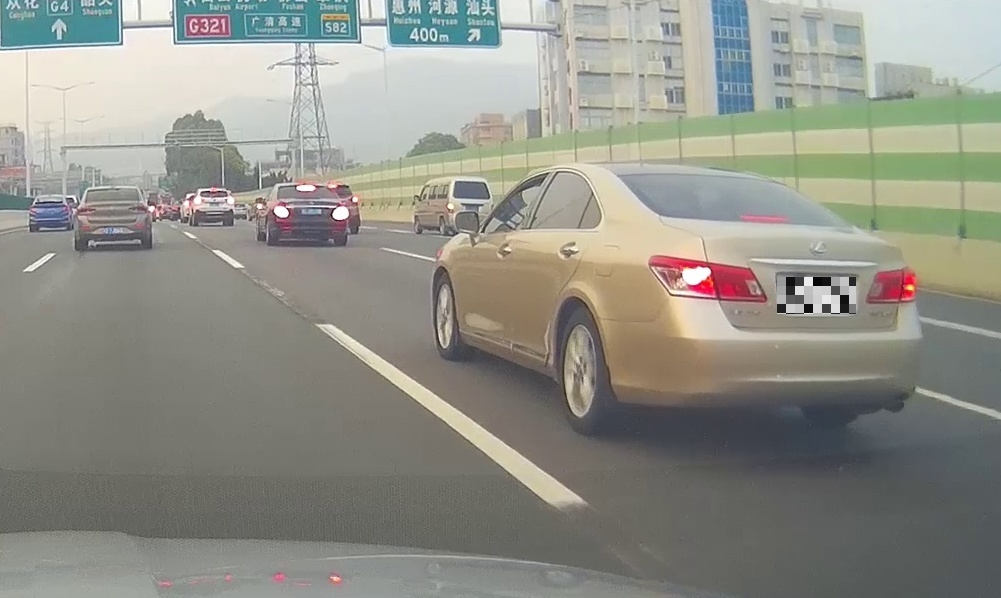L_light: (648, 254, 767, 302), (273, 205, 290, 220), (76, 206, 96, 215), (193, 198, 203, 205), (29, 209, 37, 214)
R_light: (865, 265, 920, 305), (331, 206, 349, 220), (128, 204, 149, 214), (226, 197, 234, 204), (63, 207, 70, 214)
T_light: (740, 214, 790, 223), (296, 185, 316, 192), (108, 188, 122, 192), (210, 189, 218, 193), (47, 196, 54, 199)
day-brake: (271, 183, 349, 246), (193, 188, 235, 226)
day-left: (598, 163, 925, 435)
day-no: (75, 186, 151, 250), (28, 195, 71, 232)
plate_1: (777, 277, 856, 314)
